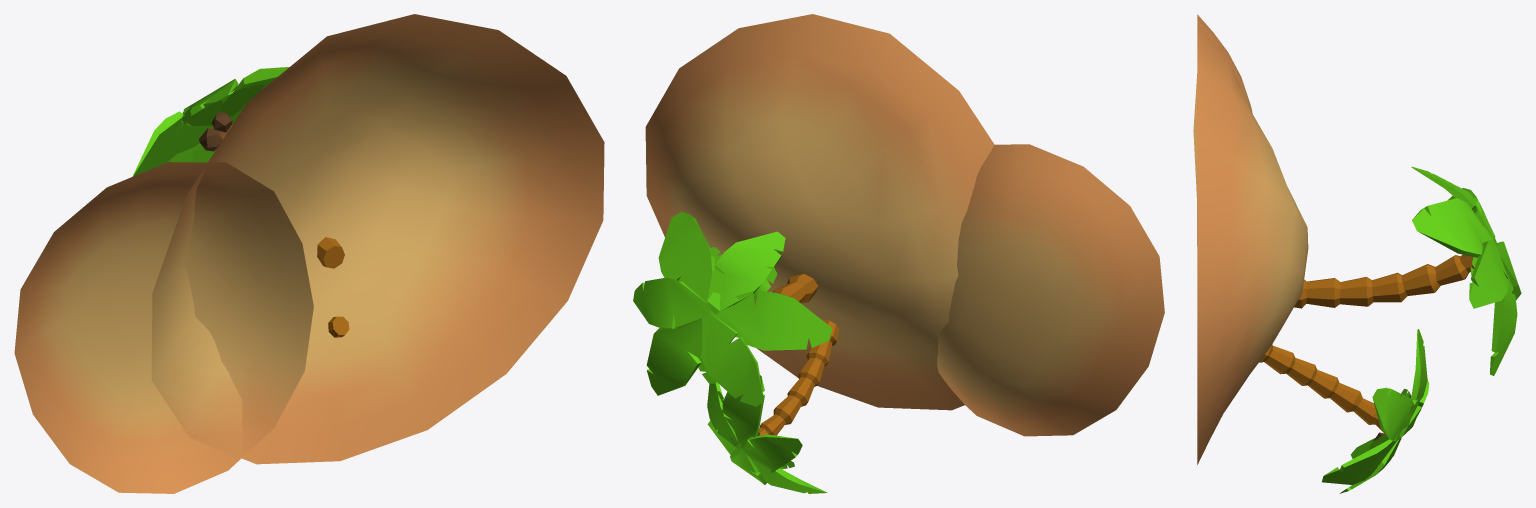
The model's file is Island2.fbx.
The picture shows the model from 3 angles, left to right: view 1: azimuth 30°, elevation 25°; view 2: azimuth 150°, elevation 25°; view 3: azimuth 270°, elevation 25°; orthographic projection. The views are drawn at different scales.
Parts seen in each view (by area): view 1: Island2; view 2: Island2; view 3: Island2.
Part boxes in pixels (x1=…): Island2: x1=14, y1=14, x2=604, y2=493; Island2: x1=633, y1=14, x2=1164, y2=493; Island2: x1=1193, y1=14, x2=1521, y2=493.
Size of the model in its own units: 2.21 by 1.68 by 1.13.
